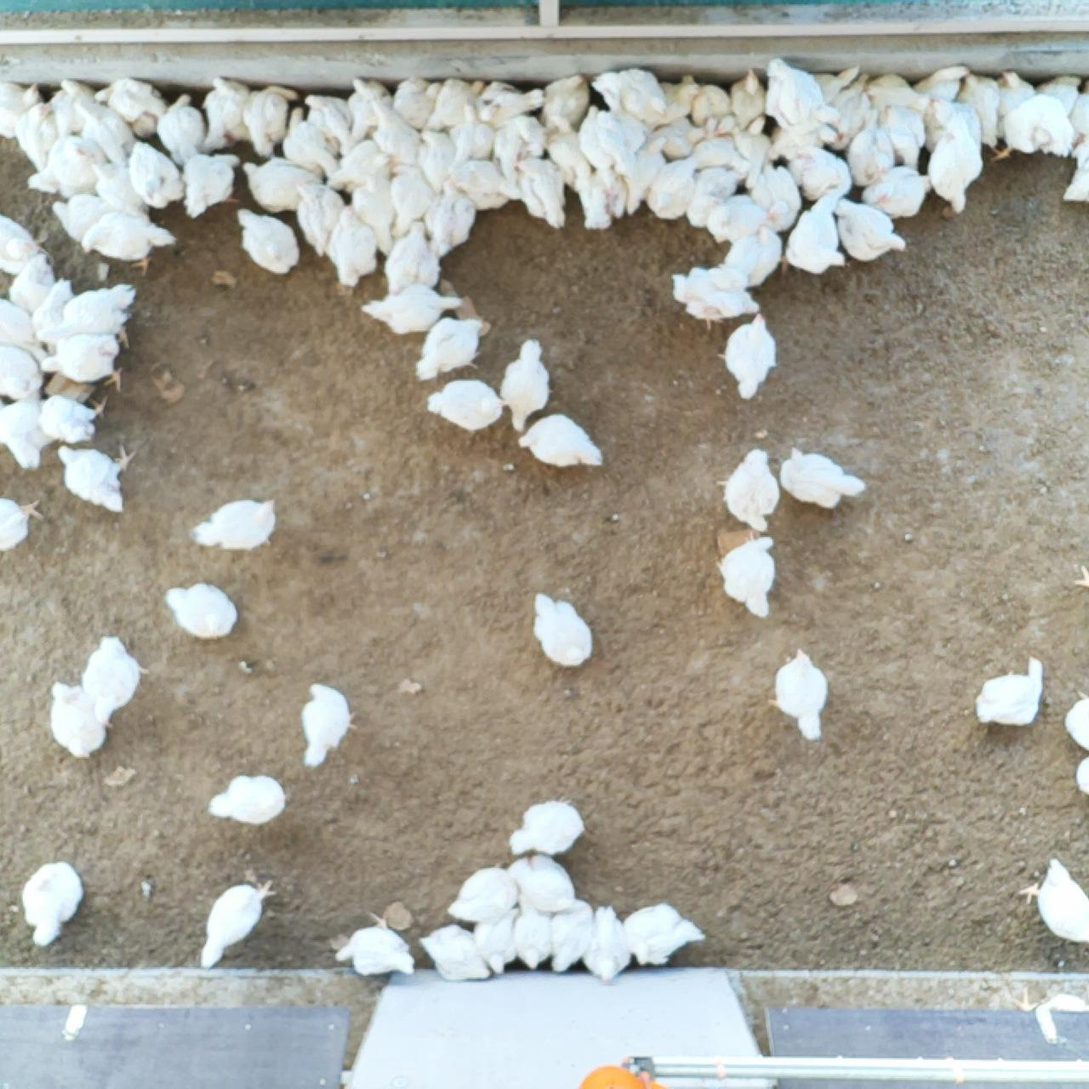chicken: (190, 882, 275, 973), (78, 210, 181, 278), (80, 633, 156, 721), (778, 446, 873, 511), (1020, 856, 1089, 945), (54, 442, 138, 514), (925, 118, 985, 217), (329, 908, 416, 975), (516, 411, 607, 475), (624, 901, 707, 971), (770, 648, 831, 743), (359, 282, 468, 335), (716, 447, 783, 532), (524, 592, 597, 669), (410, 315, 493, 382), (786, 193, 854, 274), (975, 654, 1050, 727), (37, 330, 128, 390), (829, 197, 912, 262), (502, 333, 556, 432), (20, 862, 81, 949), (45, 678, 110, 759), (299, 684, 360, 770), (715, 533, 777, 616), (94, 75, 173, 140), (239, 156, 326, 215), (728, 308, 785, 398), (24, 134, 104, 197), (54, 279, 140, 337), (73, 93, 136, 171), (189, 497, 277, 552), (325, 199, 380, 287), (590, 66, 668, 128), (295, 175, 355, 255), (994, 100, 1073, 160), (385, 219, 447, 295), (234, 205, 302, 274), (240, 76, 299, 155), (205, 771, 289, 826), (679, 270, 763, 325), (761, 58, 824, 131), (950, 74, 1003, 160), (714, 220, 781, 288), (424, 175, 477, 260), (162, 584, 242, 640), (618, 130, 670, 216), (509, 799, 586, 857), (422, 378, 507, 430), (854, 164, 934, 219), (592, 87, 643, 173), (0, 397, 60, 470), (448, 154, 523, 212), (741, 158, 798, 234), (579, 902, 632, 983), (344, 178, 399, 256), (541, 104, 592, 188), (201, 74, 254, 154), (448, 864, 516, 926), (182, 150, 245, 216), (510, 158, 568, 229), (822, 70, 872, 152), (686, 165, 747, 232), (49, 193, 123, 246), (840, 115, 893, 189), (419, 922, 489, 978), (512, 849, 576, 910), (128, 140, 184, 209), (325, 135, 393, 191), (35, 398, 106, 451), (280, 105, 333, 176), (701, 196, 781, 242), (389, 161, 433, 244), (343, 70, 391, 146), (547, 901, 594, 978), (876, 102, 926, 174), (89, 158, 151, 216), (643, 154, 697, 220), (15, 103, 60, 180), (490, 109, 547, 168), (158, 92, 203, 166), (513, 895, 556, 972), (367, 100, 419, 163), (571, 99, 614, 175), (33, 273, 81, 341), (568, 163, 613, 235), (45, 78, 98, 139), (393, 73, 444, 135), (586, 154, 630, 224), (788, 144, 845, 198), (424, 76, 482, 129), (764, 113, 828, 161), (920, 99, 981, 148), (448, 100, 496, 162), (0, 333, 47, 396), (303, 92, 349, 156), (868, 73, 934, 117), (473, 911, 515, 979), (643, 116, 706, 161), (0, 72, 44, 136), (542, 71, 592, 127), (12, 256, 58, 316), (418, 122, 459, 189), (478, 83, 546, 123), (918, 61, 970, 112), (0, 495, 42, 554), (0, 299, 43, 356), (690, 83, 738, 134), (659, 70, 701, 128), (0, 215, 43, 270), (686, 133, 746, 171), (987, 66, 1030, 119), (728, 66, 767, 124), (728, 112, 767, 166), (1035, 69, 1081, 107), (815, 63, 860, 98), (1063, 146, 1089, 204), (1065, 690, 1089, 748), (1071, 77, 1089, 146), (1071, 752, 1089, 799)
